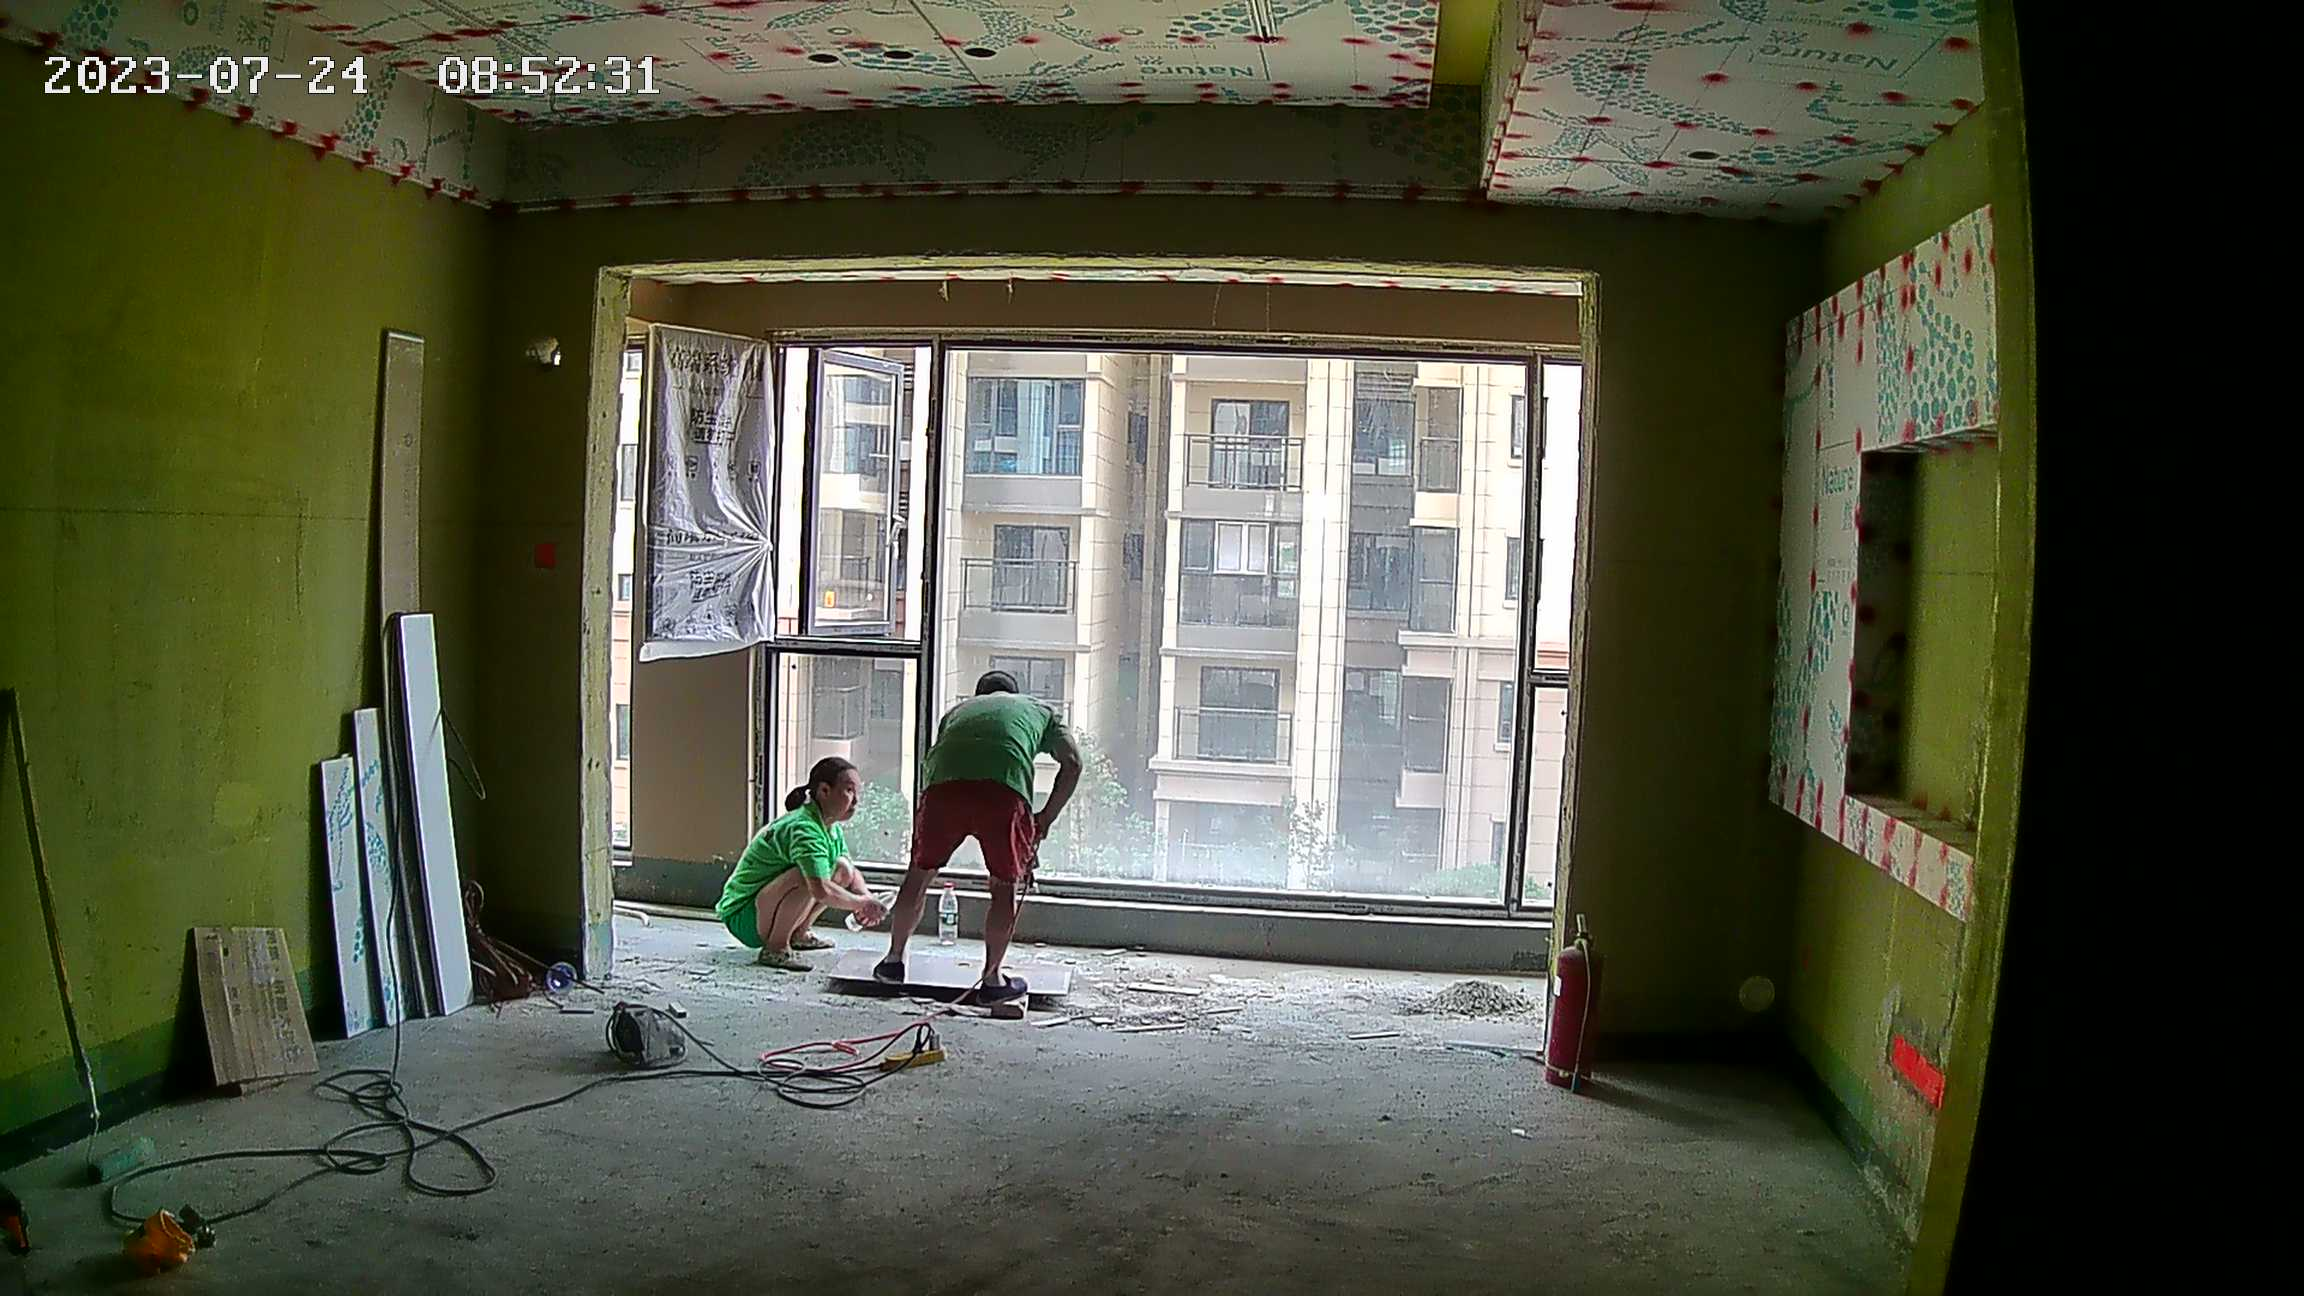people: (878, 662, 1082, 1005), (714, 758, 882, 975)
window: (759, 341, 1573, 924)
